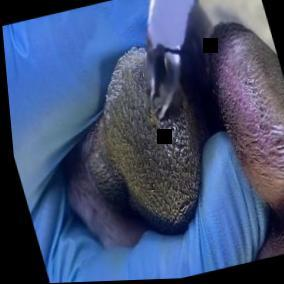keratosis: (53, 35, 221, 249)
